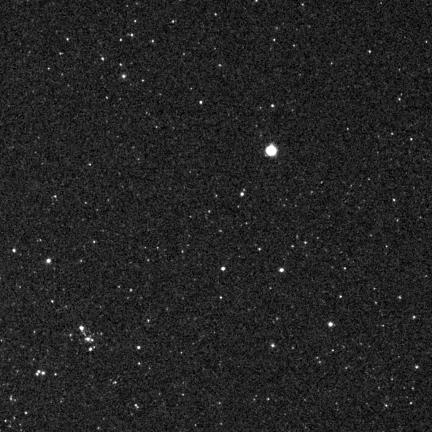blob: (266, 144, 277, 156)
